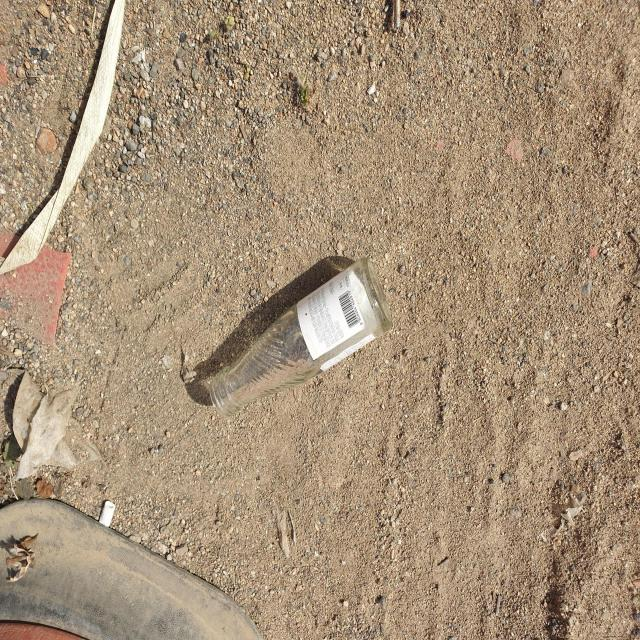glass: (209, 258, 393, 416)
